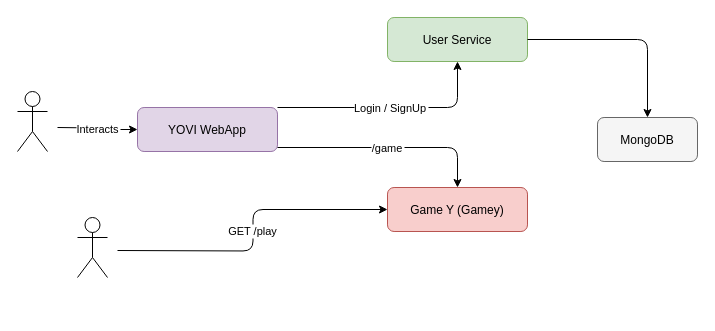
Image size: 715x331. Some labels were removed from this diagram. Each missing label, with the centre of its shape:
"Bot" belongs at (x=92, y=247).
"User" belongs at (x=32, y=121).
